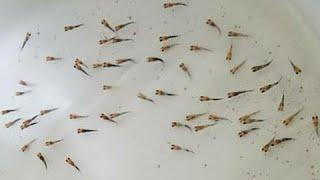fish: (227, 25, 264, 44), (175, 58, 198, 87), (184, 40, 216, 59), (168, 142, 201, 160), (204, 14, 224, 43), (69, 63, 96, 82), (110, 34, 141, 50), (112, 15, 140, 32), (235, 124, 264, 140), (152, 86, 179, 102), (229, 56, 249, 77), (72, 56, 93, 74), (72, 126, 103, 138), (108, 107, 136, 120), (224, 36, 235, 65), (95, 34, 117, 45)
